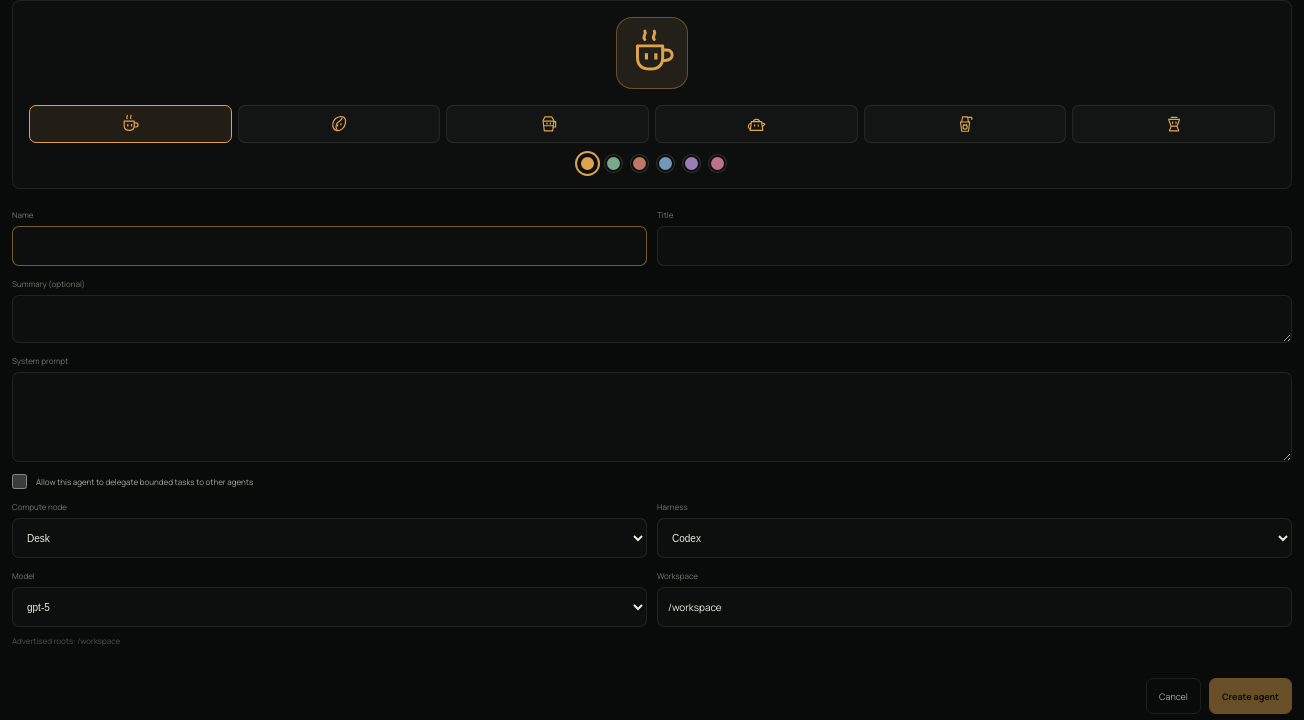
AgentConfigurationForm › derives harness, model, and workspace choices from the selected node
expect the dropdown labelled "Harness" shows "Codex": met, box [657,518,1292,558]
expect the dropdown labelled "Model" shows "gpt-5": met, box [12,587,647,627]
Step 1. Select "Server" in the dropdown labelled "Compute node" → x=330, y=538, box [12,518,647,558]
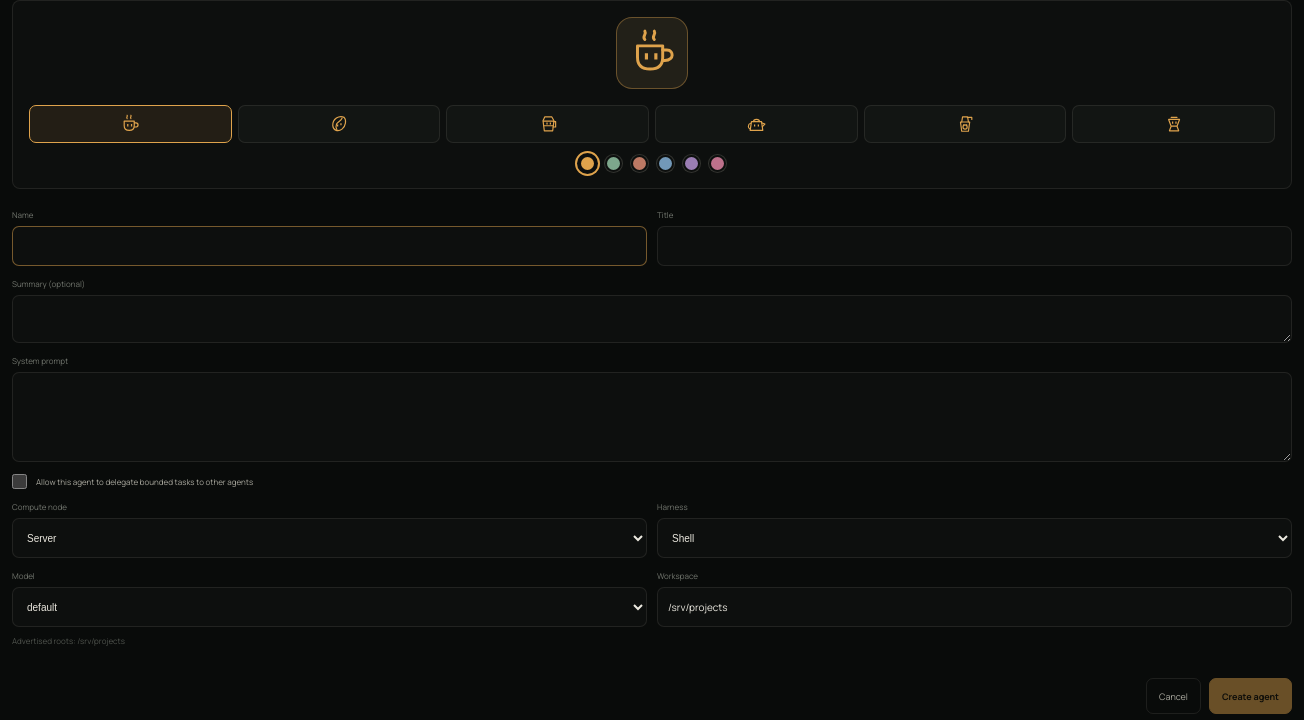
expect the dropdown labelled "Harness" shows "Shell": met, box [657,518,1292,558]
expect the dropdown labelled "Model" shows "default": met, box [12,587,647,627]
expect the field labelled "Workspace" holds "/srv/projects": met, box [657,587,1292,627]
